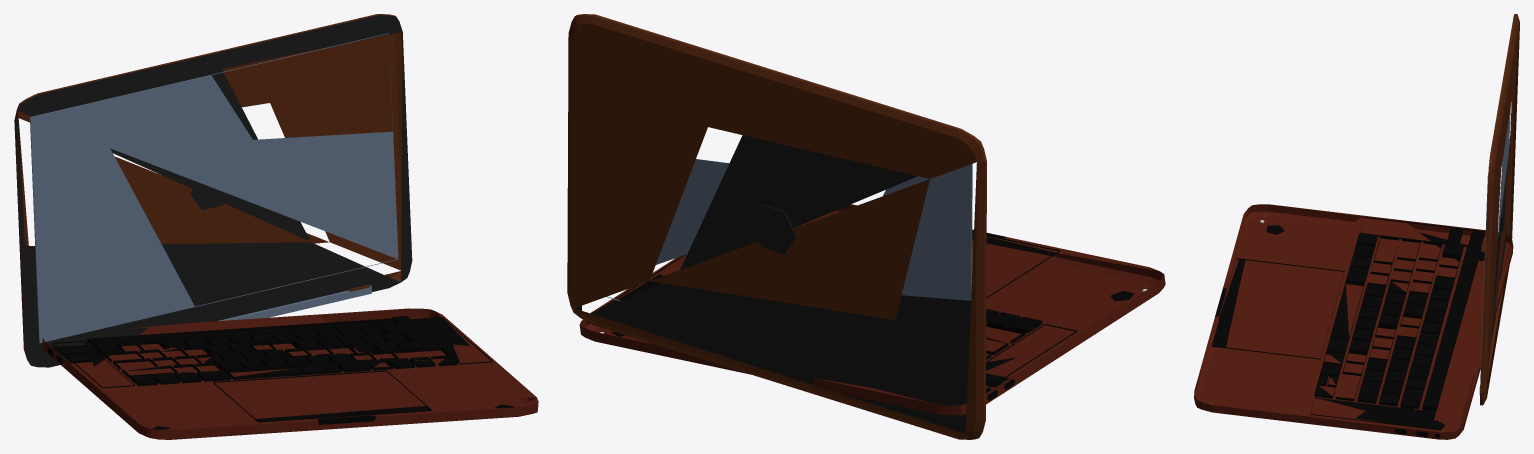
The model's file is LapTopBroken.fbx.
3 renders of one model, left to right at view 1: azimuth 30°, elevation 25°; view 2: azimuth 150°, elevation 25°; view 3: azimuth 270°, elevation 25°, orthographic. The views are drawn at different scales.
Parts seen in each view (by area): view 1: group256948792, group485226736.001; view 2: group256948792, group485226736.001; view 3: group485226736.001, group256948792.
Boxes of the visible parts, <box> form: group256948792: <box>14,14,412,367</box>; group485226736.001: <box>42,308,538,439</box>; group256948792: <box>567,14,986,439</box>; group485226736.001: <box>579,204,1165,415</box>; group485226736.001: <box>1194,204,1513,439</box>; group256948792: <box>1479,14,1519,405</box>.
Bounding box in the file's own units: 289 × 208 × 225.
